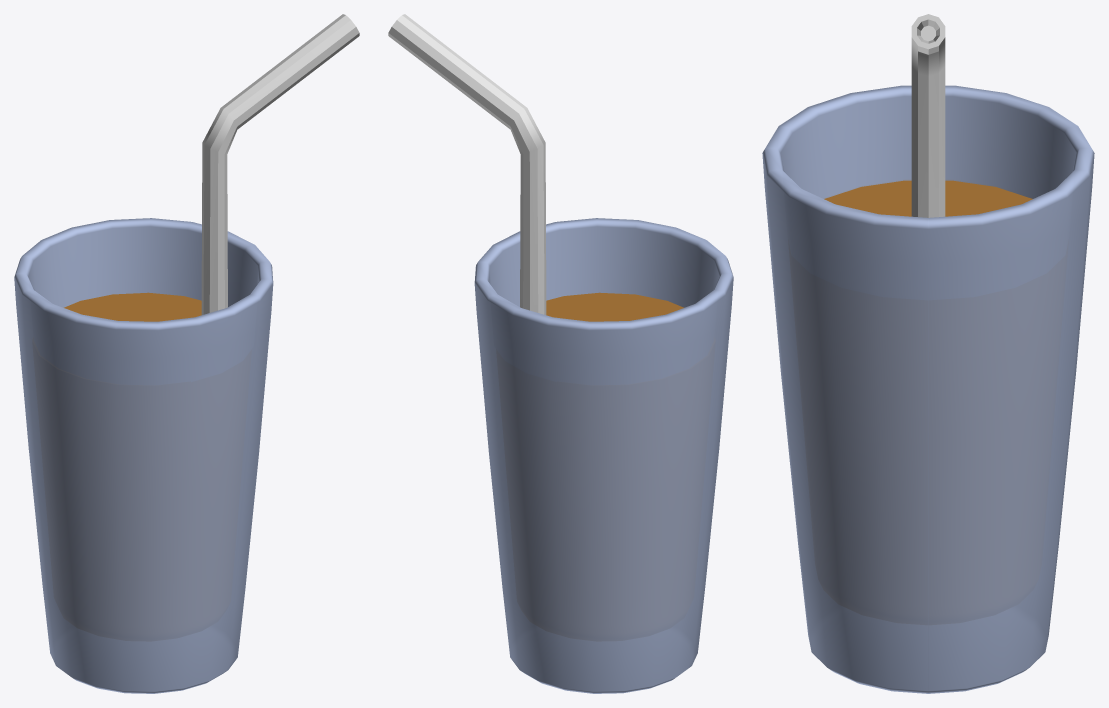
The model's file is juice_glass.fbx.
3 renders of one model, left to right at view 1: azimuth 30°, elevation 25°; view 2: azimuth 150°, elevation 25°; view 3: azimuth 270°, elevation 25°, orthographic. The views are drawn at different scales.
Parts seen in each view (by area): view 1: copo_low_01, pCylinder9, copo_low_02; view 2: copo_low_01, pCylinder9, copo_low_02; view 3: copo_low_01, pCylinder9, copo_low_02.
Boxes of the visible parts, box(x1,y1,x2,y2) form: copo_low_01: box(14, 218, 273, 693); pCylinder9: box(201, 14, 359, 314); copo_low_02: box(64, 292, 201, 321); copo_low_01: box(474, 218, 733, 693); pCylinder9: box(388, 14, 546, 314); copo_low_02: box(546, 292, 683, 321); copo_low_01: box(762, 85, 1094, 693); pCylinder9: box(911, 14, 945, 217); copo_low_02: box(824, 180, 1032, 216).
Bounding box in the file's own units: 8.44 × 14.77 × 5.86.
